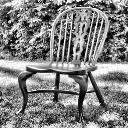chair_success: (8, 4, 117, 123)
